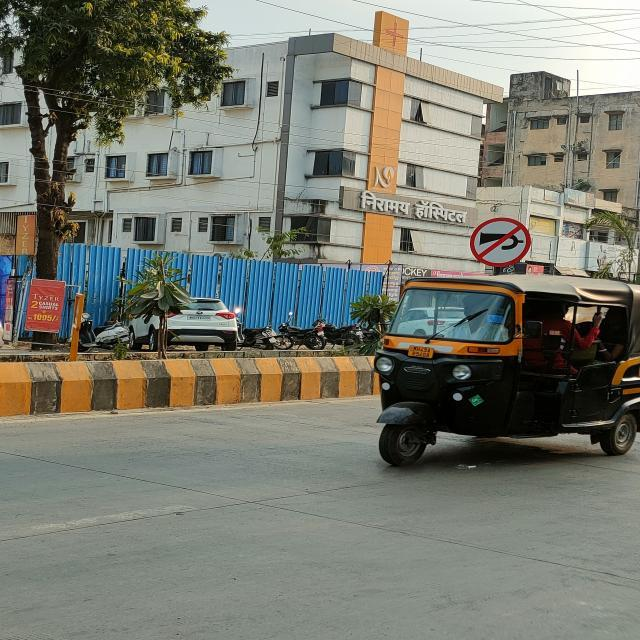horn prohibited: (468, 216, 533, 269)
